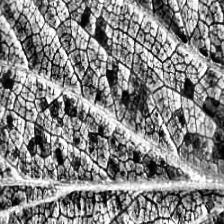Angular Leafspot: (0, 3, 224, 185)
